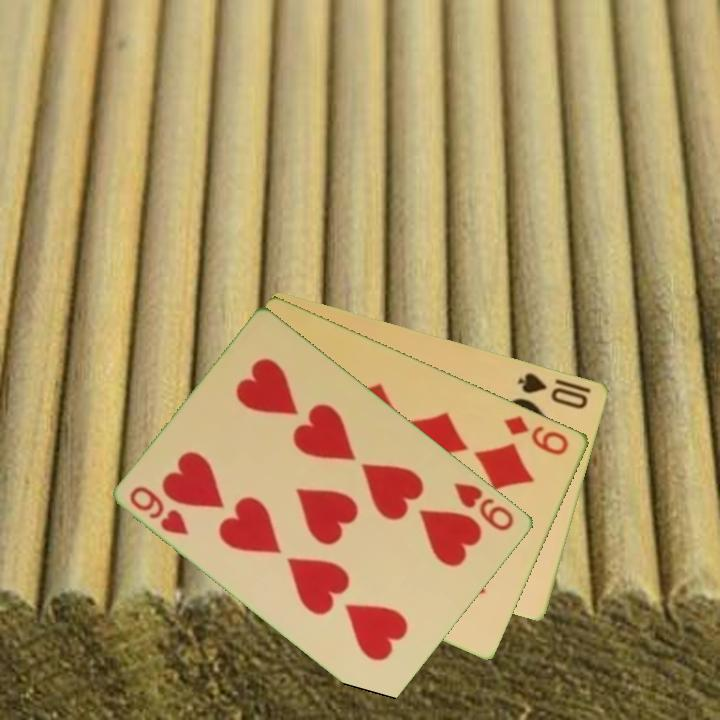10s: (515, 368, 592, 412)
9d: (501, 412, 573, 458)
9h: (451, 478, 518, 534), (126, 482, 192, 538)
